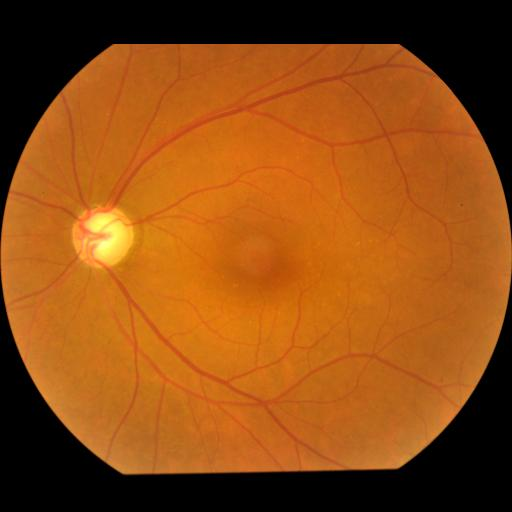Optic Cup: (87, 213, 127, 263)
Optic Disc: (72, 205, 136, 273)
